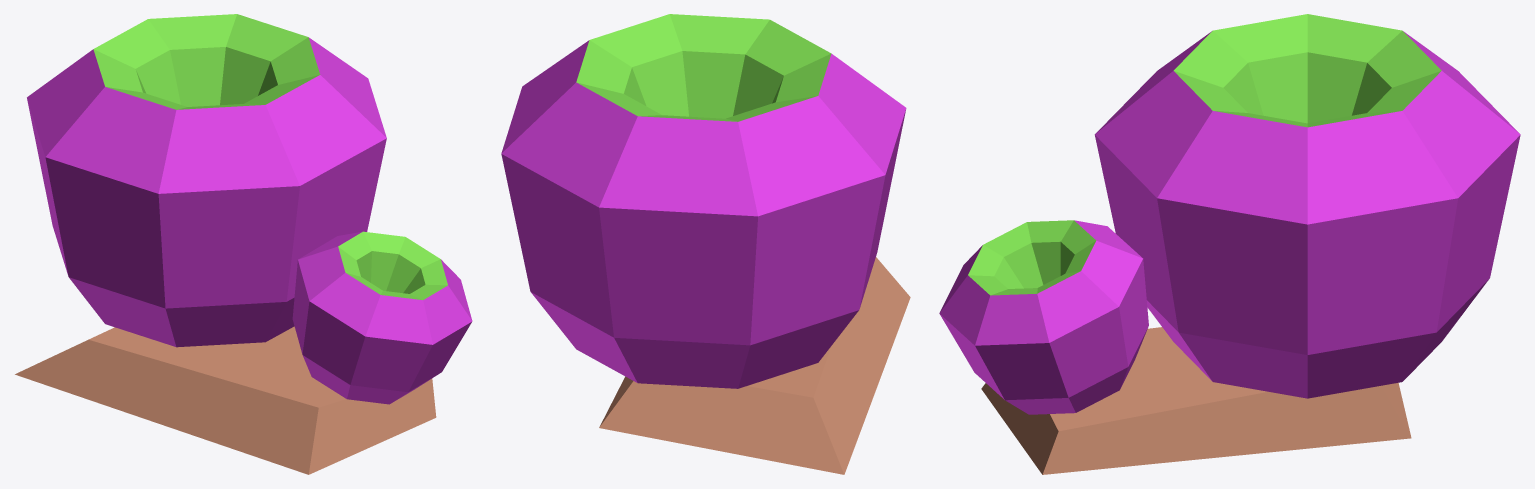
Rendered from coral_4.fbx.
The picture shows the model from 3 angles, left to right: view 1: azimuth 30°, elevation 25°; view 2: azimuth 150°, elevation 25°; view 3: azimuth 270°, elevation 25°; orthographic projection. The views are drawn at different scales.
Parts seen in each view (by area): view 1: Cylindre; view 2: Cylindre; view 3: Cylindre.
Part boxes in pixels (x1,y1,x2,y2): Cylindre: [15, 14, 472, 474]; Cylindre: [501, 14, 910, 474]; Cylindre: [939, 14, 1520, 474].
Bounding box in the file's own units: 187 × 165 × 255.
